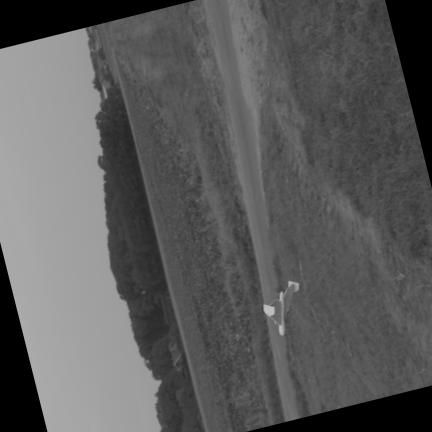Shahed: (263, 280, 298, 333)
